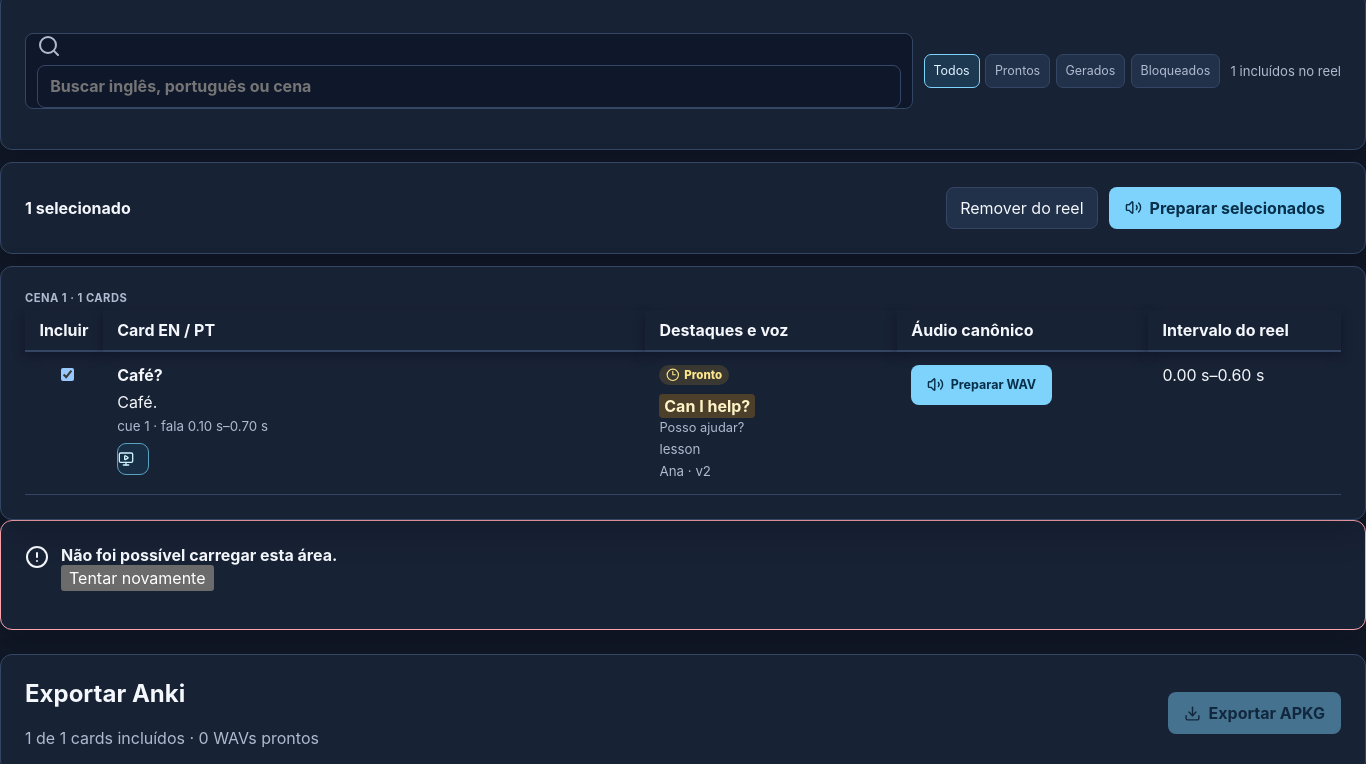
Test: MaterialsPage › shows sending, queue and worker status without silently ignoring Prepare WAV
The image size is (1366, 764).
(page scrolled)
Click the button "Preparar WAV" at (982, 385), box [911,365,1052,405]
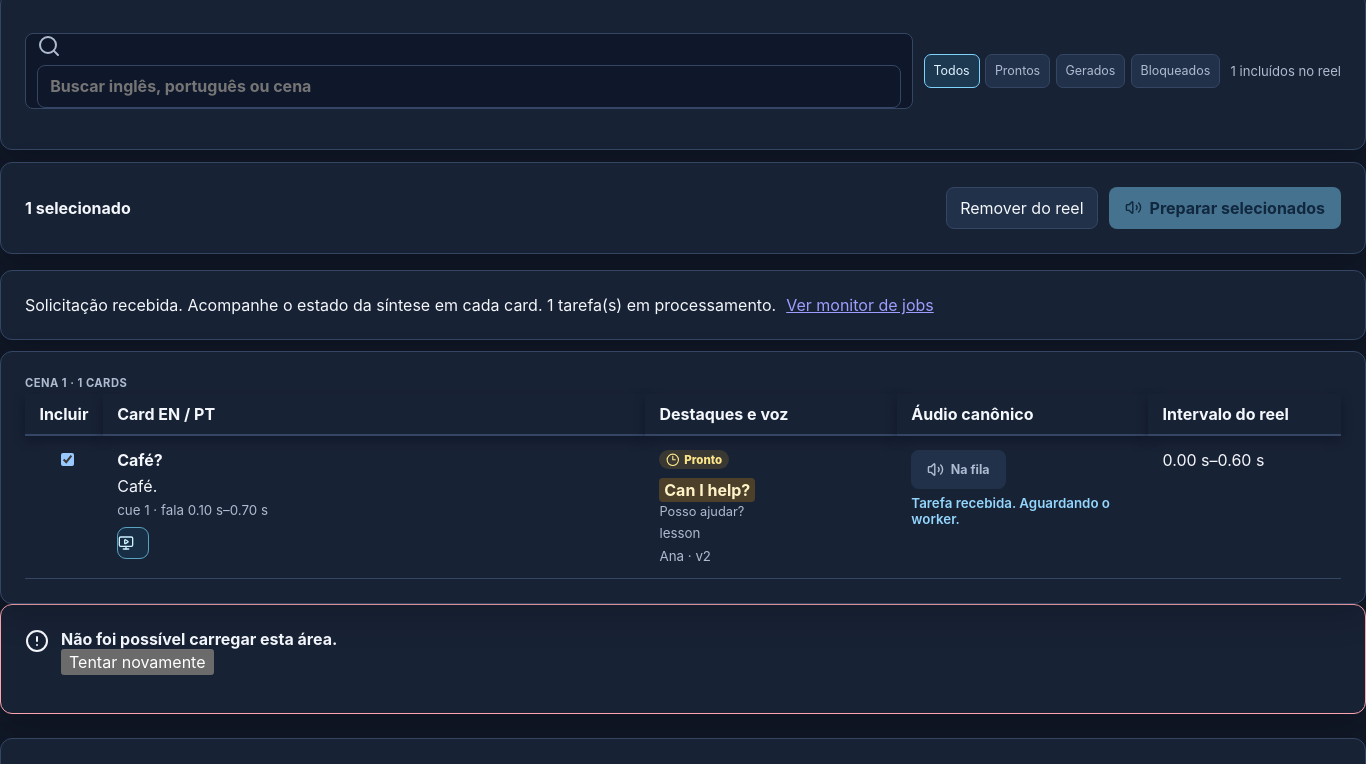
Expected: the button named "Enviando…" is disabled, [911,450,1006,489]
Expected: the text "Enviando solicitação de áudio ao worker" is shown, [0,270,1365,340]
Expected: the button "Na fila" is disabled, [911,450,1006,489]
